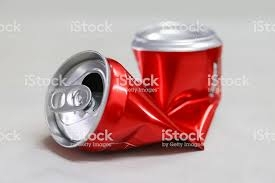metal: (40, 18, 233, 162)
